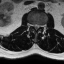CCS_normal: (35, 22, 38, 32)
LFS_stenosis: (40, 22, 42, 28)
LLS_normal: (38, 22, 40, 29)
RFS_normal: (31, 21, 33, 28)
RLS_normal: (33, 22, 35, 29)
